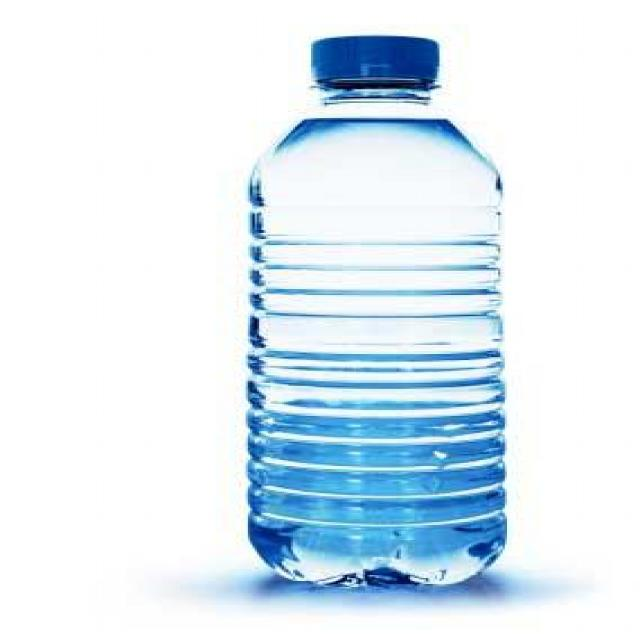plastic_bottle: (236, 34, 520, 596)
